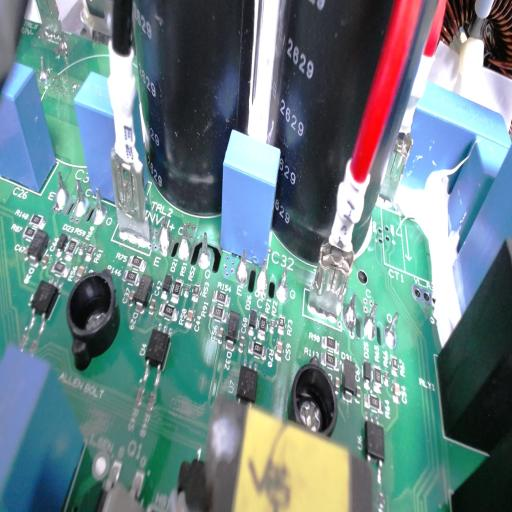pin_group: (154, 206, 214, 273), (342, 289, 402, 356), (233, 241, 291, 309), (50, 165, 110, 230)
solder_ball: (384, 310, 402, 354), (52, 168, 70, 211), (91, 184, 109, 226), (362, 301, 380, 343), (73, 178, 91, 218), (234, 245, 250, 287), (178, 217, 193, 261), (156, 210, 172, 250), (344, 294, 360, 333), (197, 229, 212, 270), (256, 256, 269, 295), (276, 269, 290, 305)
